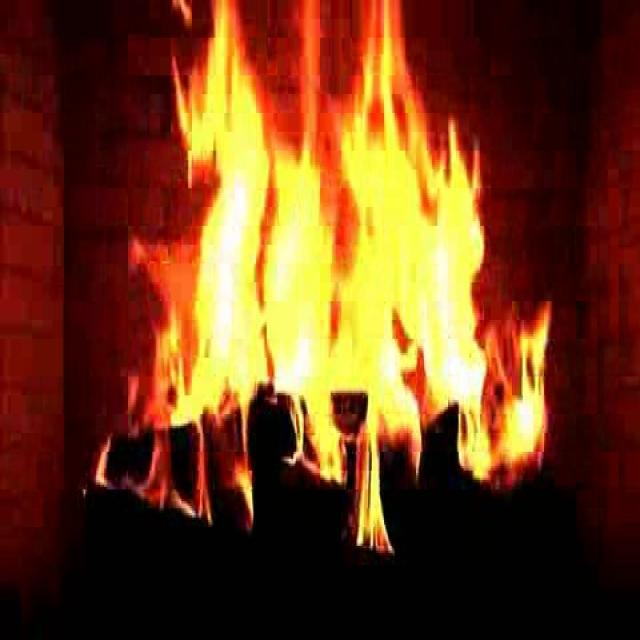fire: (143, 8, 531, 551)
